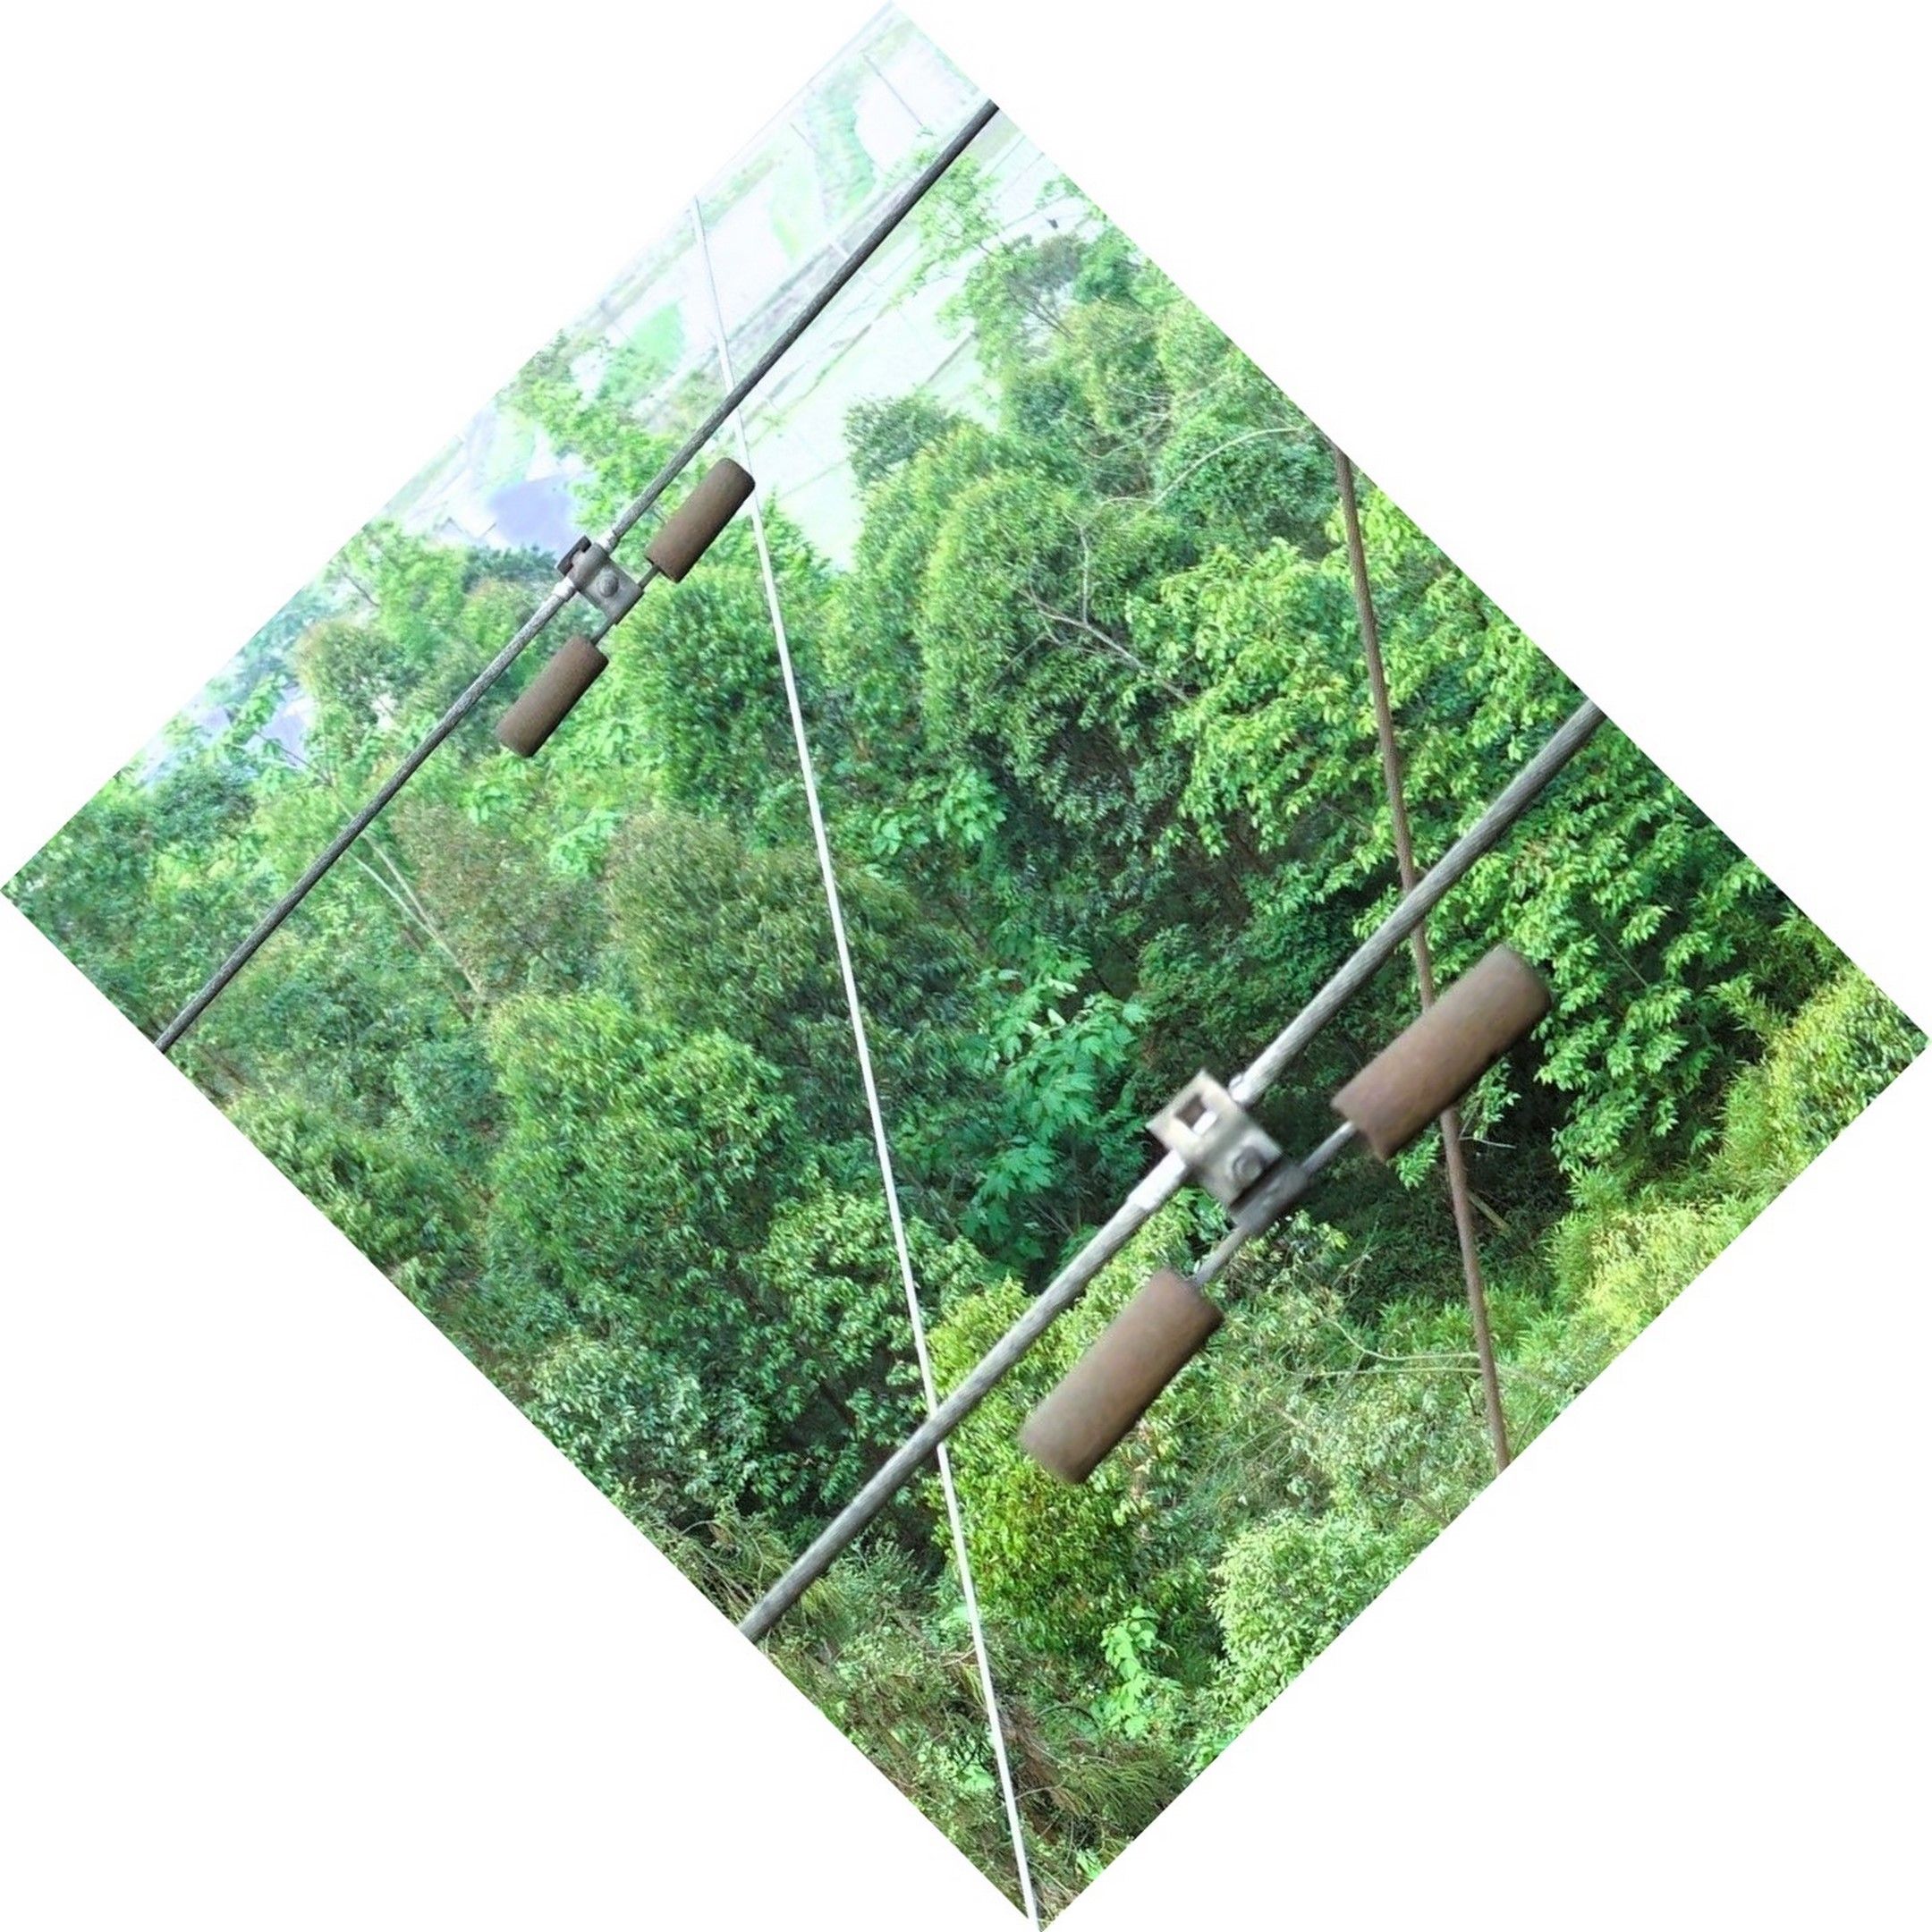Shockproof hammer: (984, 892, 1578, 1493), (462, 425, 784, 782)
